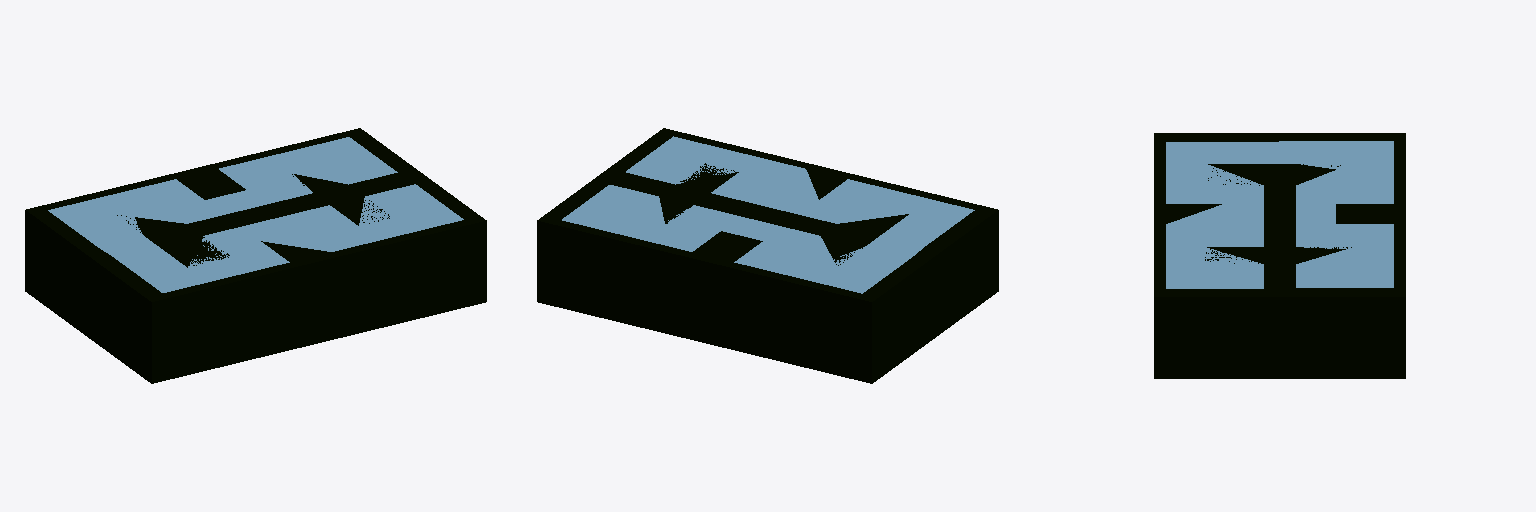
Rendered from CubeRTYStage3.obj.
3 views of the same model, side by side, from view 1: azimuth 30°, elevation 25°; view 2: azimuth 150°, elevation 25°; view 3: azimuth 270°, elevation 25° (orthographic).
Visible parts, largest first — view 1: Stage3_Plane.005; view 2: Stage3_Plane.005; view 3: Stage3_Plane.005.
Part boxes in pixels (left/top/right/bottom): Stage3_Plane.005: left=25, top=128, right=486, bottom=383; Stage3_Plane.005: left=537, top=128, right=998, bottom=383; Stage3_Plane.005: left=1154, top=133, right=1405, bottom=378.
Size of the model in its own units: 27.41 by 6.39 by 17.92.